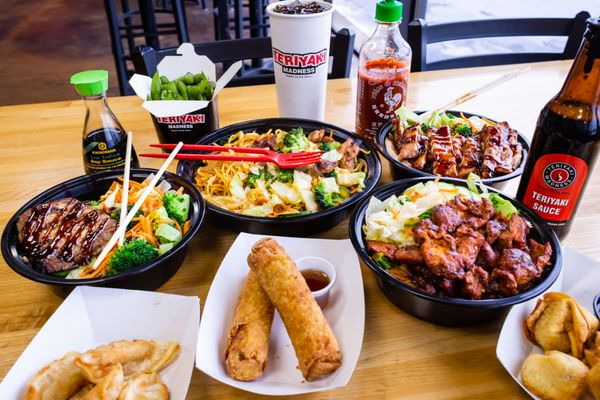curry: (102, 237, 158, 277)
pizza: (266, 0, 334, 118)
salad: (110, 141, 183, 234)
sushi: (349, 174, 563, 325), (0, 164, 208, 286), (182, 118, 381, 233), (495, 289, 600, 398)
